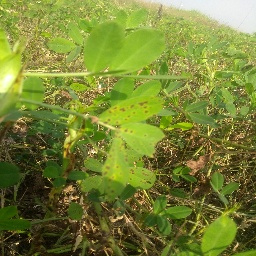GroundNut_Leaf: (83, 19, 128, 71), (95, 95, 169, 124), (100, 136, 131, 199), (130, 27, 170, 75), (149, 194, 192, 235), (198, 213, 238, 256), (19, 75, 46, 113), (45, 35, 75, 55), (1, 161, 21, 188), (188, 112, 215, 130), (1, 200, 18, 222), (67, 201, 83, 221), (210, 171, 225, 192)
